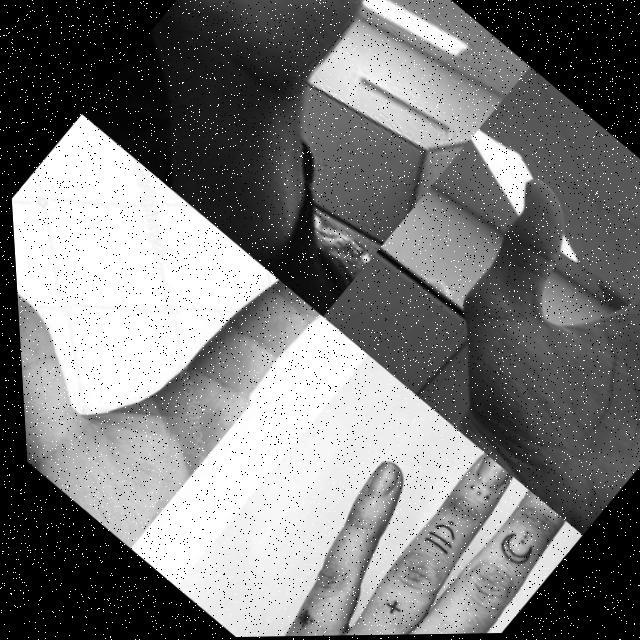no-gloves: (6, 128, 328, 550), (360, 112, 640, 538), (215, 403, 579, 638), (154, 0, 420, 130)
